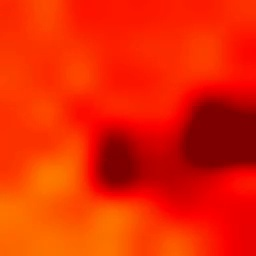person: (93, 126, 187, 191)
